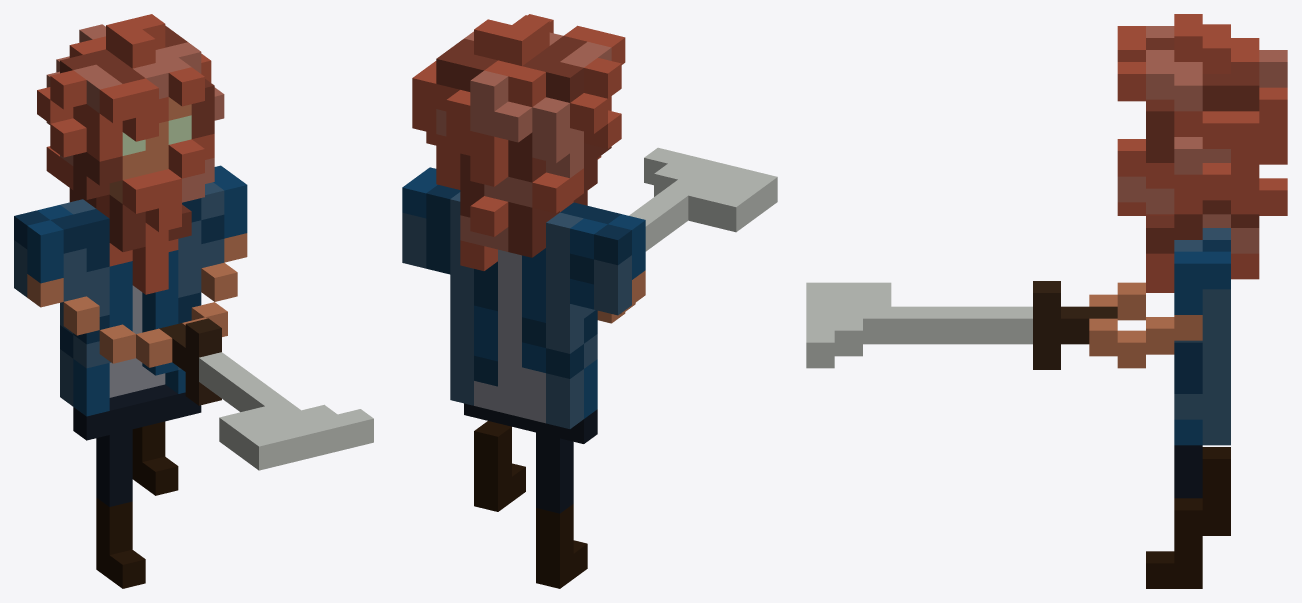
File: SwingingAxeManChar-5.obj
The picture shows the model from 3 angles, left to right: view 1: azimuth 30°, elevation 25°; view 2: azimuth 150°, elevation 25°; view 3: azimuth 270°, elevation 25°; orthographic projection. The views are drawn at different scales.
Parts seen in each view (by area): view 1: SwingingAxeManChar-5; view 2: SwingingAxeManChar-5; view 3: SwingingAxeManChar-5.
Boxes of the visible parts, x1=… form: SwingingAxeManChar-5: x1=14, y1=14, x2=373, y2=588; SwingingAxeManChar-5: x1=402, y1=14, x2=777, y2=588; SwingingAxeManChar-5: x1=806, y1=14, x2=1287, y2=588.
Size of the model in its own units: 9 by 22 by 17.
1 material, 1 textured.
